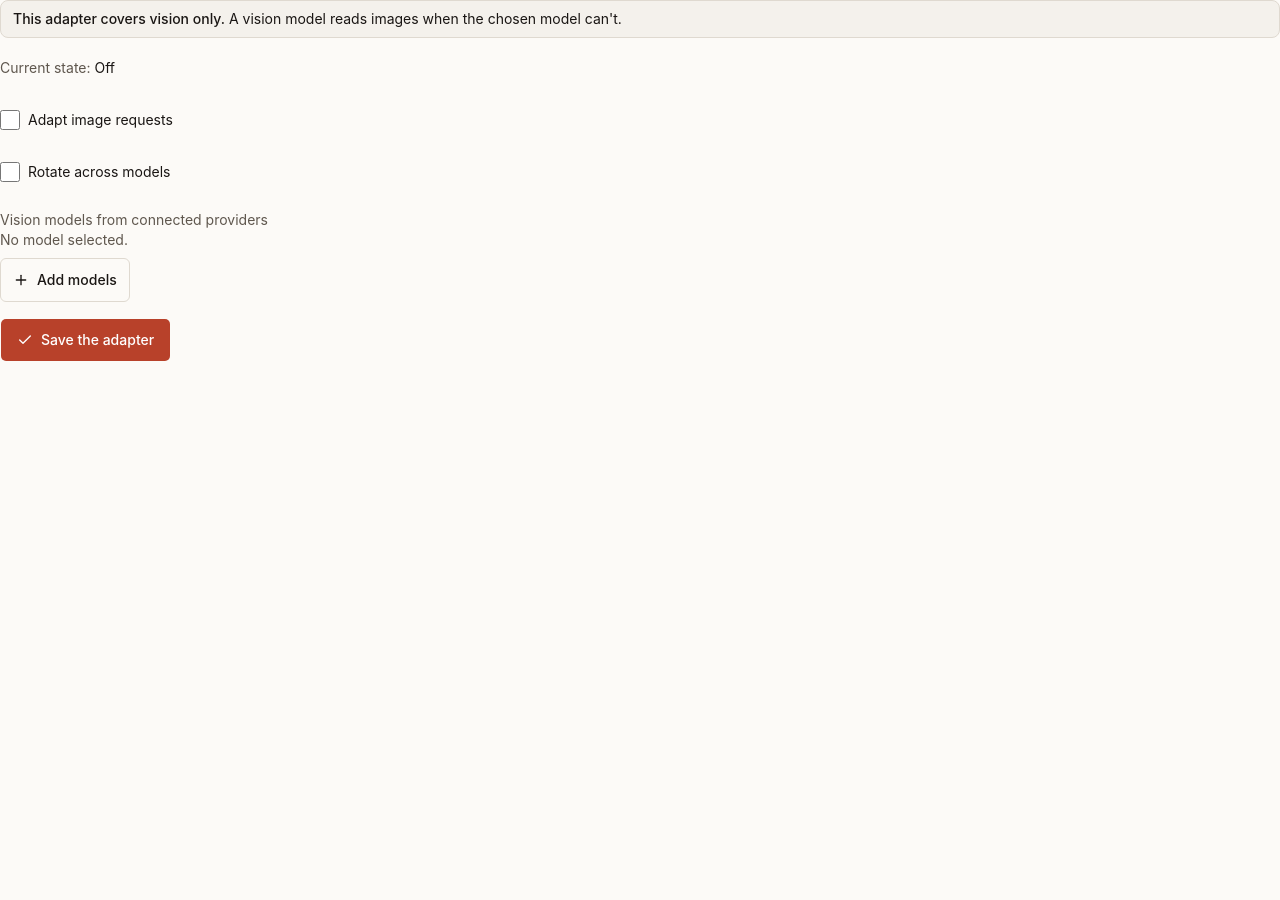
Test: the vision adapter picker › offers the vision models of a connected provider and nothing from an unconfigured one
Click the button "Add models" at (65, 280), box [0, 258, 130, 302]
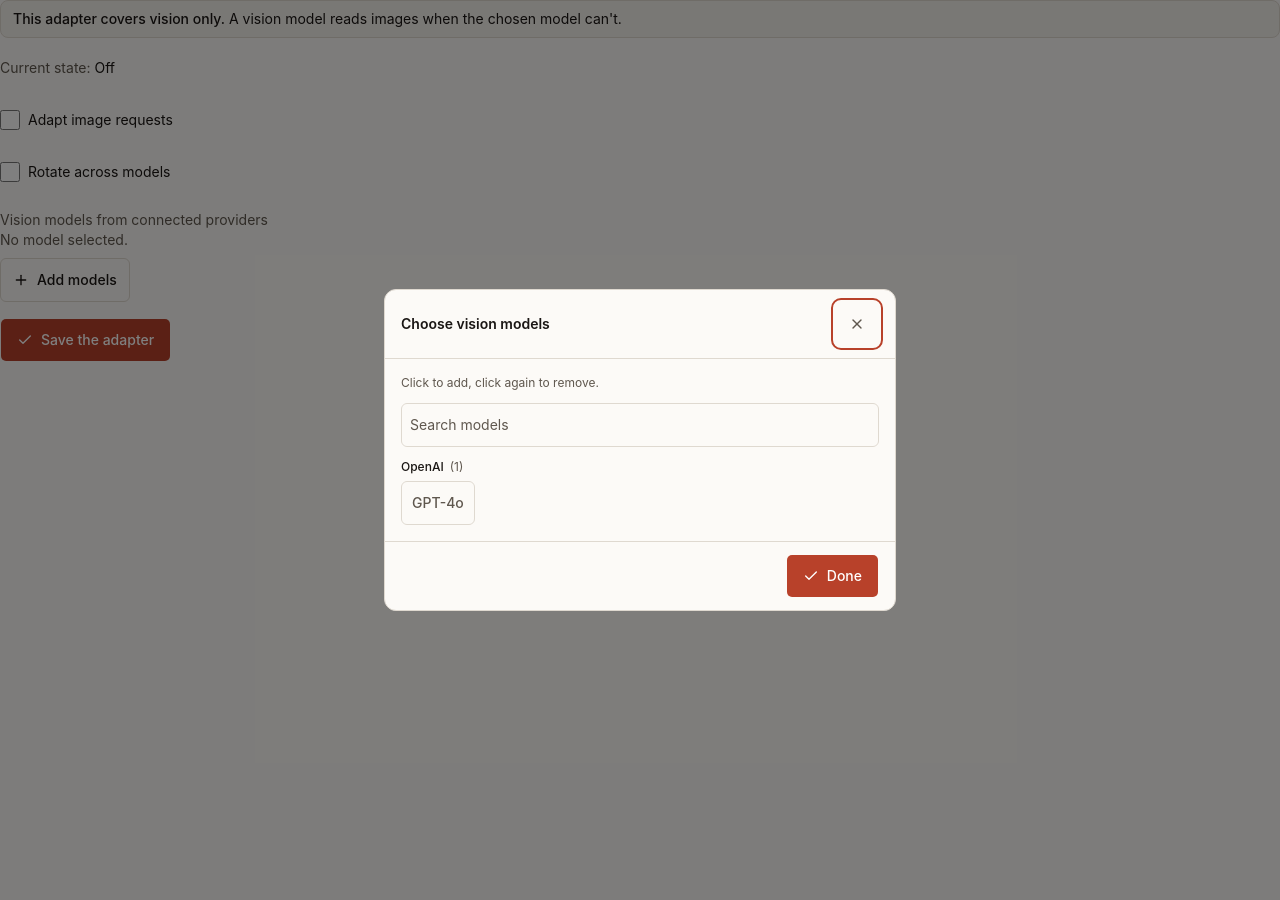
Expected: the button "GPT-4o" is shown, [401, 481, 475, 525]
